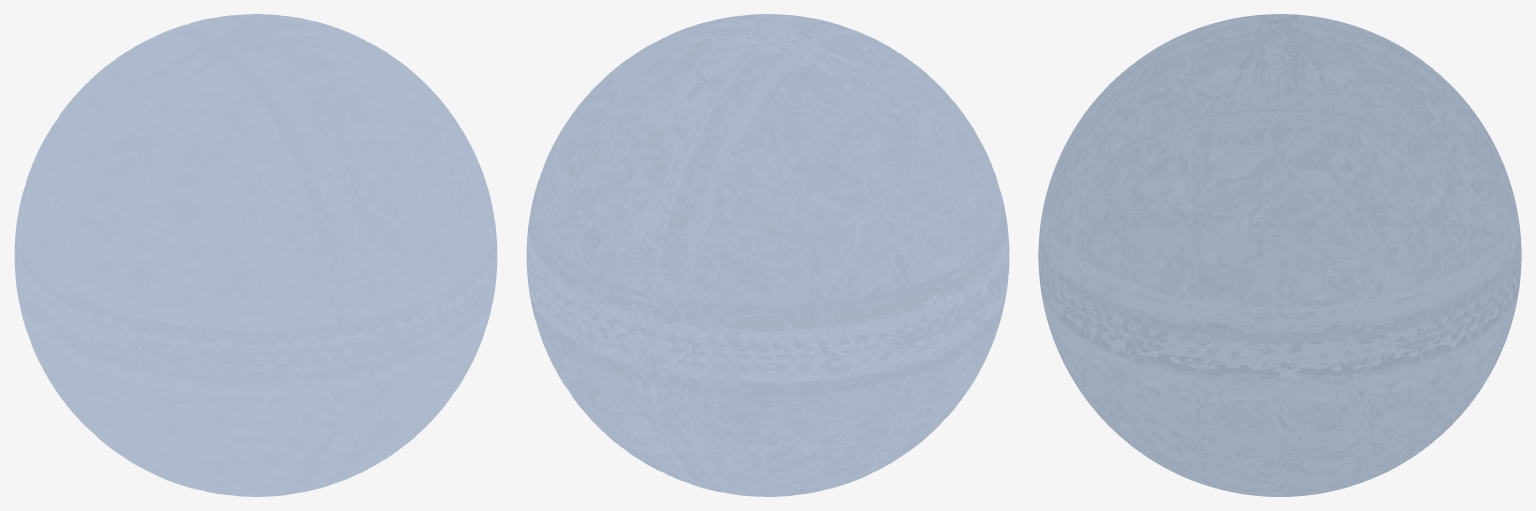
File: row_2_1.glb
The picture shows the model from 3 angles, left to right: view 1: azimuth 30°, elevation 25°; view 2: azimuth 150°, elevation 25°; view 3: azimuth 270°, elevation 25°; orthographic projection.
Parts seen in each view (by area): view 1: row_2_1; view 2: row_2_1; view 3: row_2_1.
Part boxes in pixels (<box>): row_2_1: <box>14,14,497,496</box>; row_2_1: <box>526,14,1009,496</box>; row_2_1: <box>1038,14,1521,496</box>.
Bounding box in the file's own units: 2 × 2 × 2.
